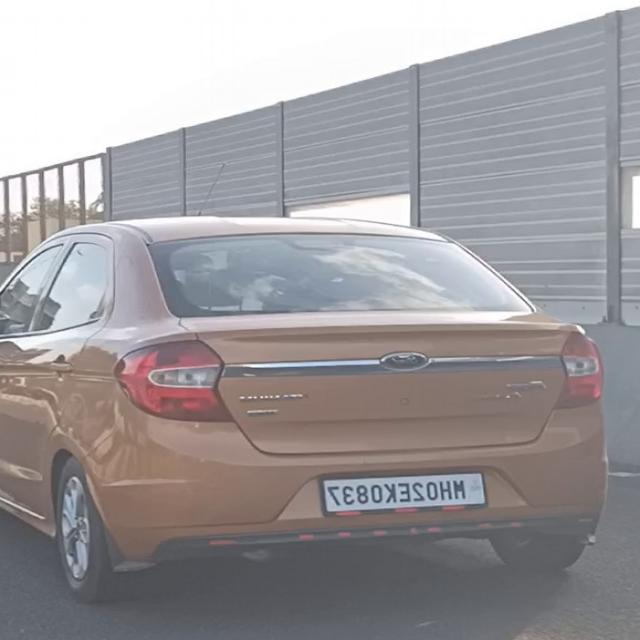license_plate: (314, 461, 494, 521)
